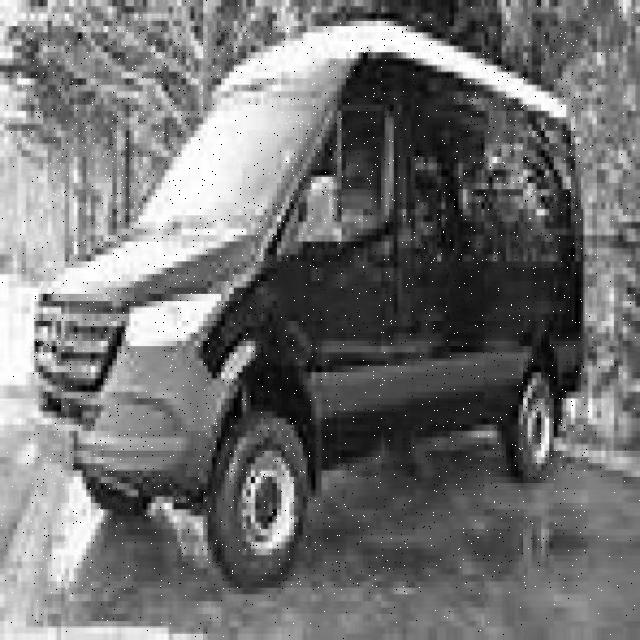Van: (31, 22, 586, 594)
